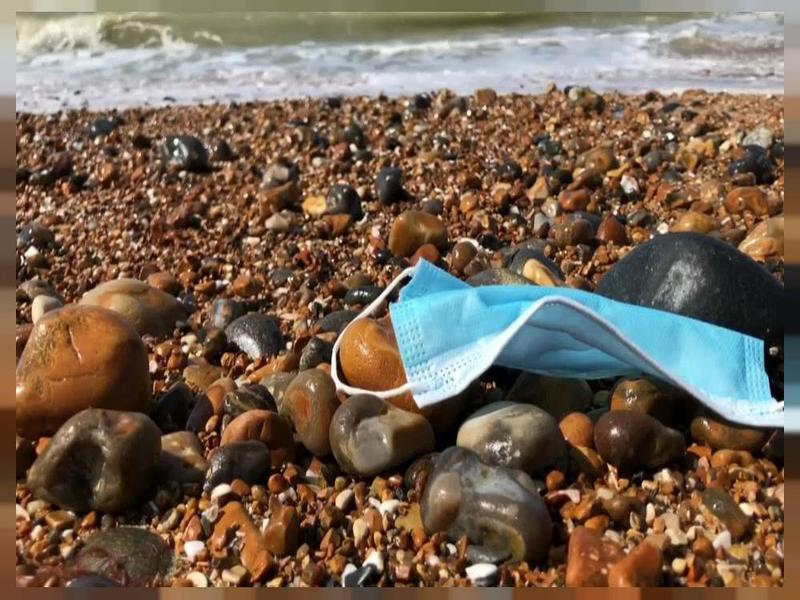mask: (328, 247, 796, 440)
